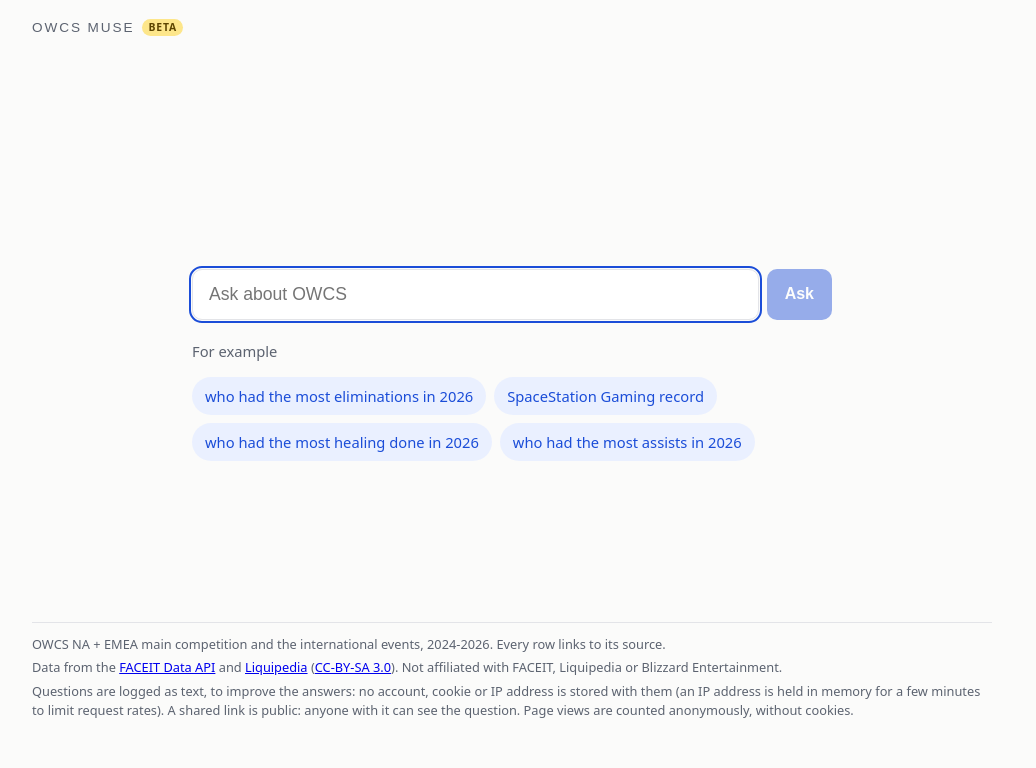
Test: asking › never shows the id it just submitted after picking a clarify candidate
Type "tea record" into the field at (475, 294), box [192,269,759,320]
Then press Enter
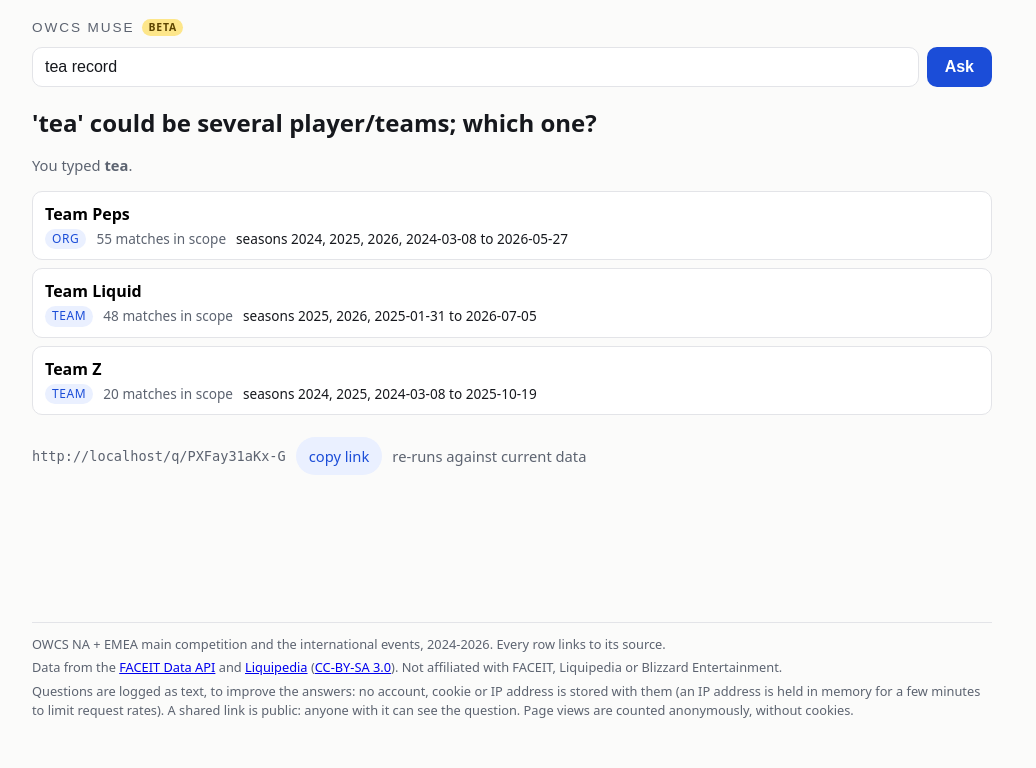
Click the button "Team Liquid" at (93, 291), box [32,268,992,338]
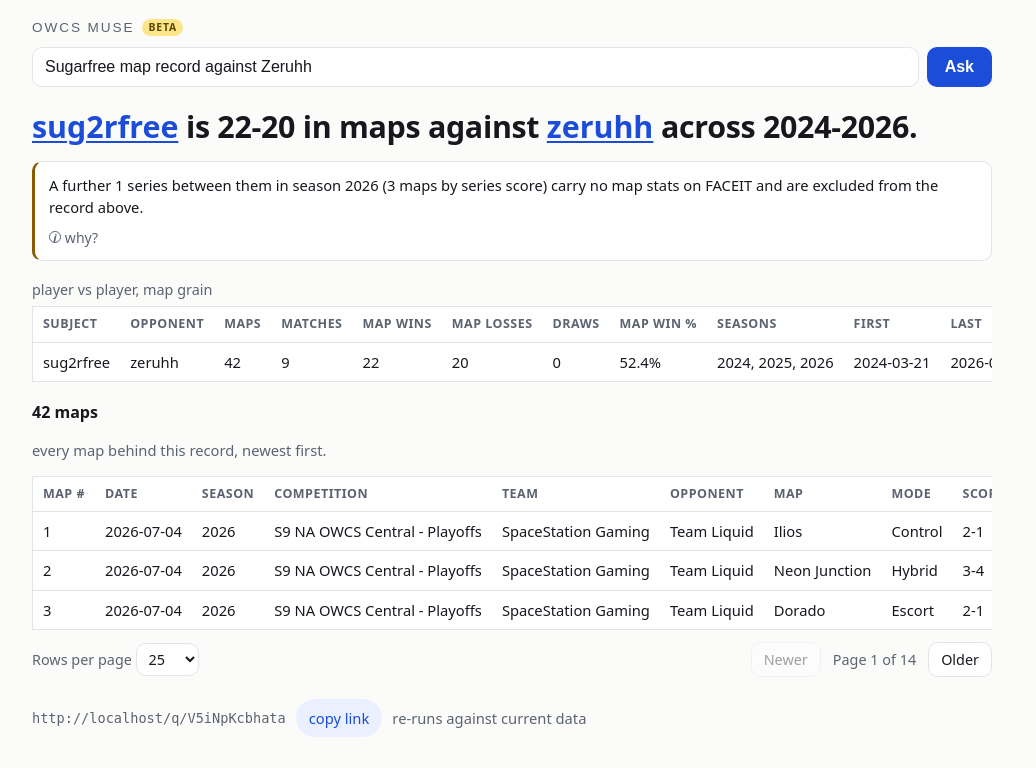
Check: the element with test id "answer" is shown
